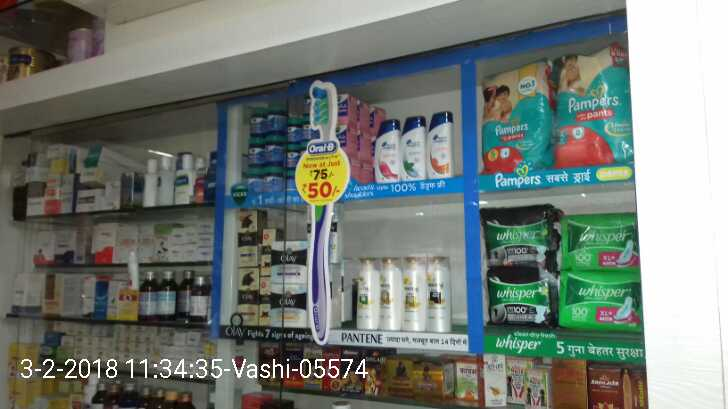beauty: (268, 238, 312, 285), (368, 119, 401, 181), (427, 108, 455, 177), (429, 254, 453, 334), (401, 114, 430, 179), (381, 257, 406, 328), (405, 253, 427, 330), (358, 254, 379, 334), (268, 286, 308, 327), (234, 267, 260, 325), (234, 209, 257, 267)
pharmacy: (548, 43, 633, 170), (481, 59, 550, 172), (561, 209, 640, 276), (559, 271, 643, 334), (486, 206, 559, 269), (488, 265, 559, 327), (263, 142, 282, 170), (263, 166, 280, 195), (261, 108, 280, 133), (245, 145, 263, 166), (248, 112, 261, 137), (287, 147, 299, 173)
